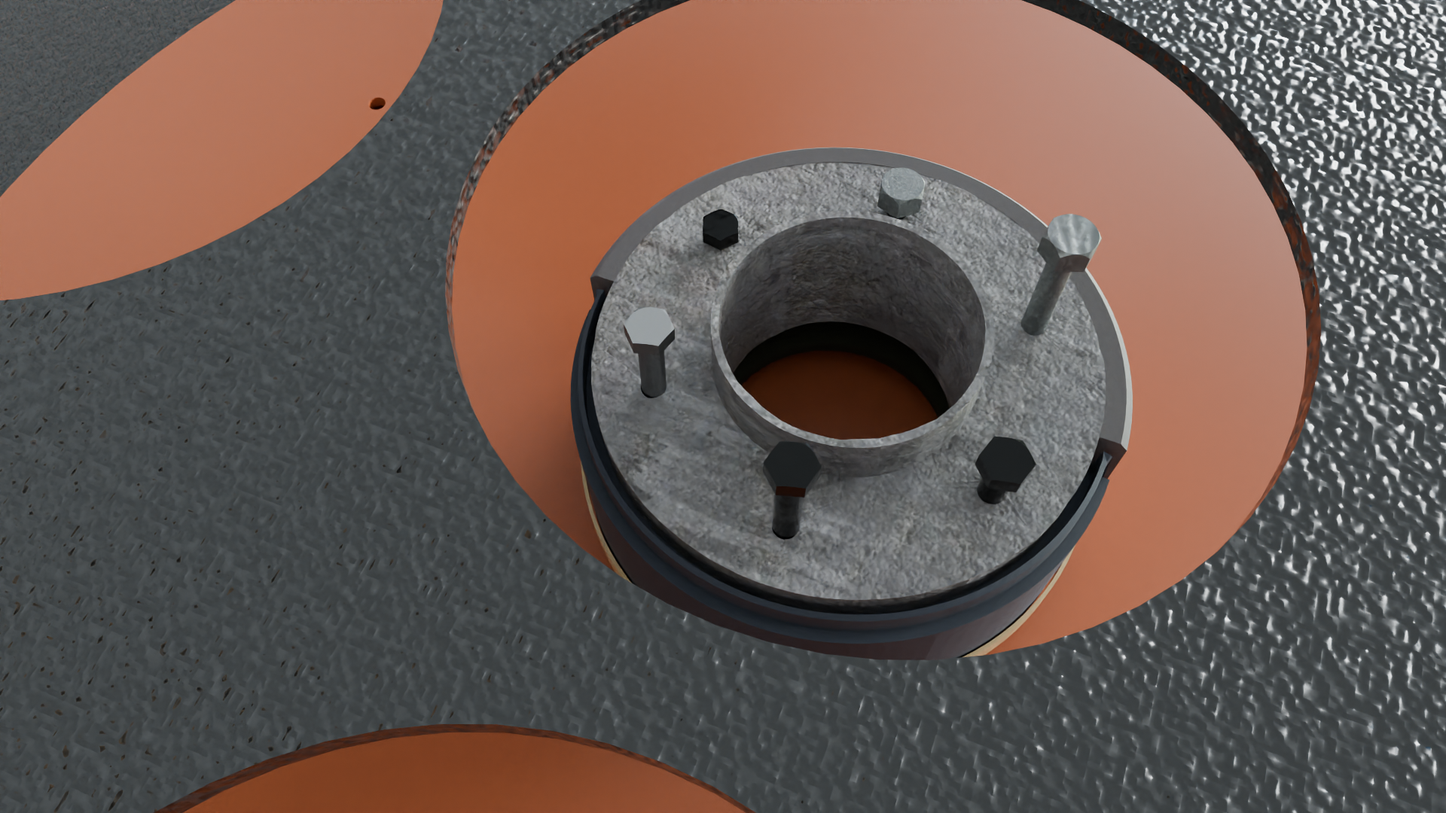bolt: (764, 441, 822, 489), (1042, 214, 1102, 259), (979, 437, 1036, 484), (624, 307, 674, 346), (880, 168, 925, 206), (703, 209, 738, 242)
